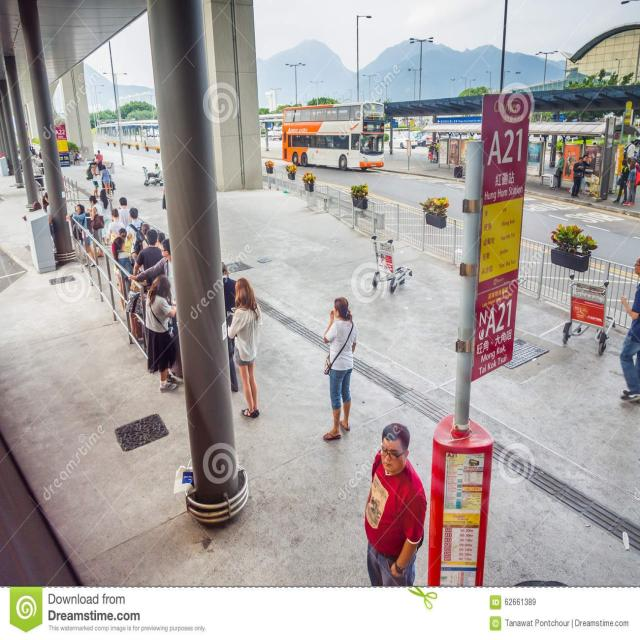body: (360, 420, 430, 640), (317, 294, 359, 444), (227, 276, 263, 418), (144, 274, 178, 394), (127, 236, 176, 305), (618, 256, 640, 404), (222, 260, 240, 392), (132, 228, 166, 293), (65, 203, 98, 268), (110, 227, 135, 312), (110, 228, 134, 312), (112, 236, 138, 302), (294, 133, 374, 152), (125, 206, 144, 266), (86, 195, 104, 258), (43, 191, 58, 254), (568, 154, 591, 195), (97, 188, 112, 246), (612, 158, 630, 206), (628, 141, 640, 203), (622, 160, 637, 207), (569, 155, 585, 198), (107, 208, 126, 244), (582, 145, 602, 176), (316, 106, 356, 121), (85, 161, 101, 198), (564, 145, 580, 178), (65, 199, 81, 232), (553, 150, 565, 191), (117, 196, 131, 229), (100, 164, 113, 198), (30, 193, 50, 214), (143, 162, 161, 184), (140, 222, 152, 250), (365, 105, 383, 121), (36, 147, 46, 175), (625, 140, 636, 164), (95, 149, 103, 174), (86, 154, 98, 170), (156, 230, 165, 251), (160, 185, 167, 210), (73, 150, 82, 165), (434, 138, 439, 164), (72, 150, 78, 165), (30, 145, 36, 155), (626, 156, 629, 170)
